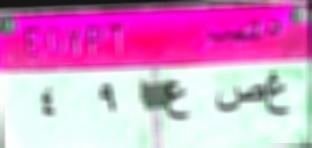4: (32, 86, 64, 124)
9: (91, 75, 126, 116)
ain: (158, 78, 192, 125)
ghayn: (265, 67, 290, 118)
saad: (212, 81, 265, 115)
